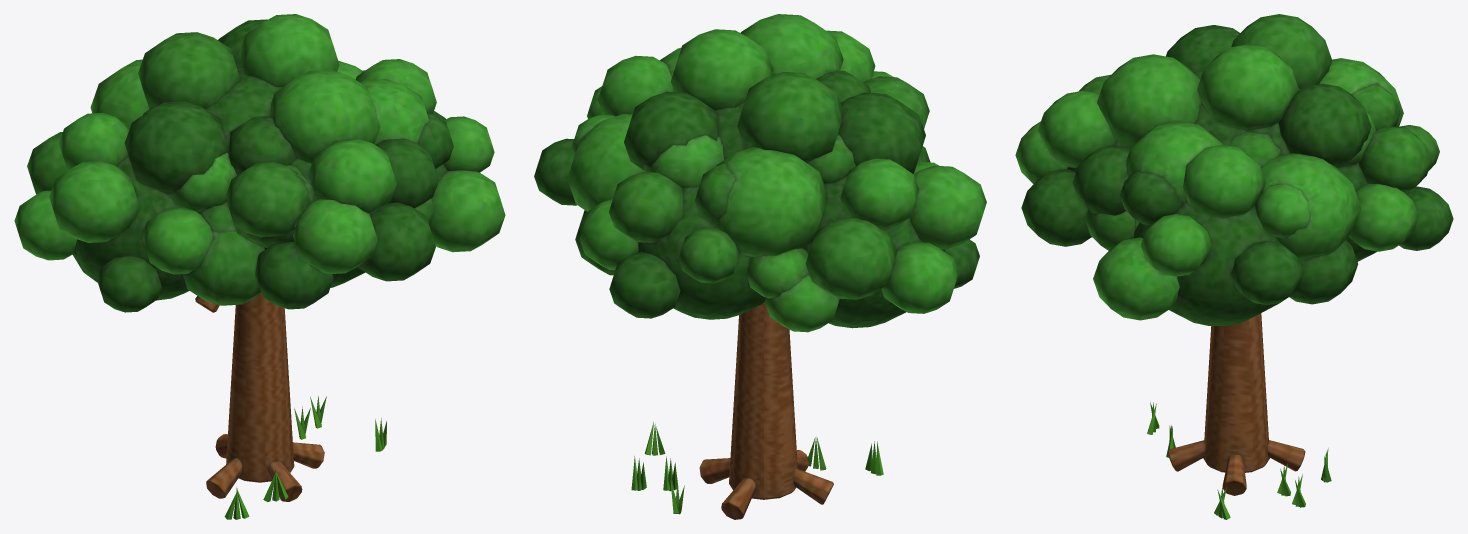
The model's file is loquat_tree.glb.
The picture shows the model from 3 angles, left to right: view 1: azimuth 30°, elevation 25°; view 2: azimuth 150°, elevation 25°; view 3: azimuth 270°, elevation 25°; orthographic projection. The views are drawn at different scales.
Parts seen in each view (by area): view 1: crown, loquat_tree; view 2: crown, loquat_tree; view 3: crown, loquat_tree.
Boxes of the visible parts, x1,y1,x2,y2 form: crown: (14,14,505,312); loquat_tree: (195,293,386,519); crown: (534,14,986,332); loquat_tree: (631,302,883,519); crown: (1015,14,1453,325); loquat_tree: (1147,313,1331,519).
Bounding box in the file's own units: 1.27 × 1.3 × 1.17.
Materials: 1 (1 with a texture image).
